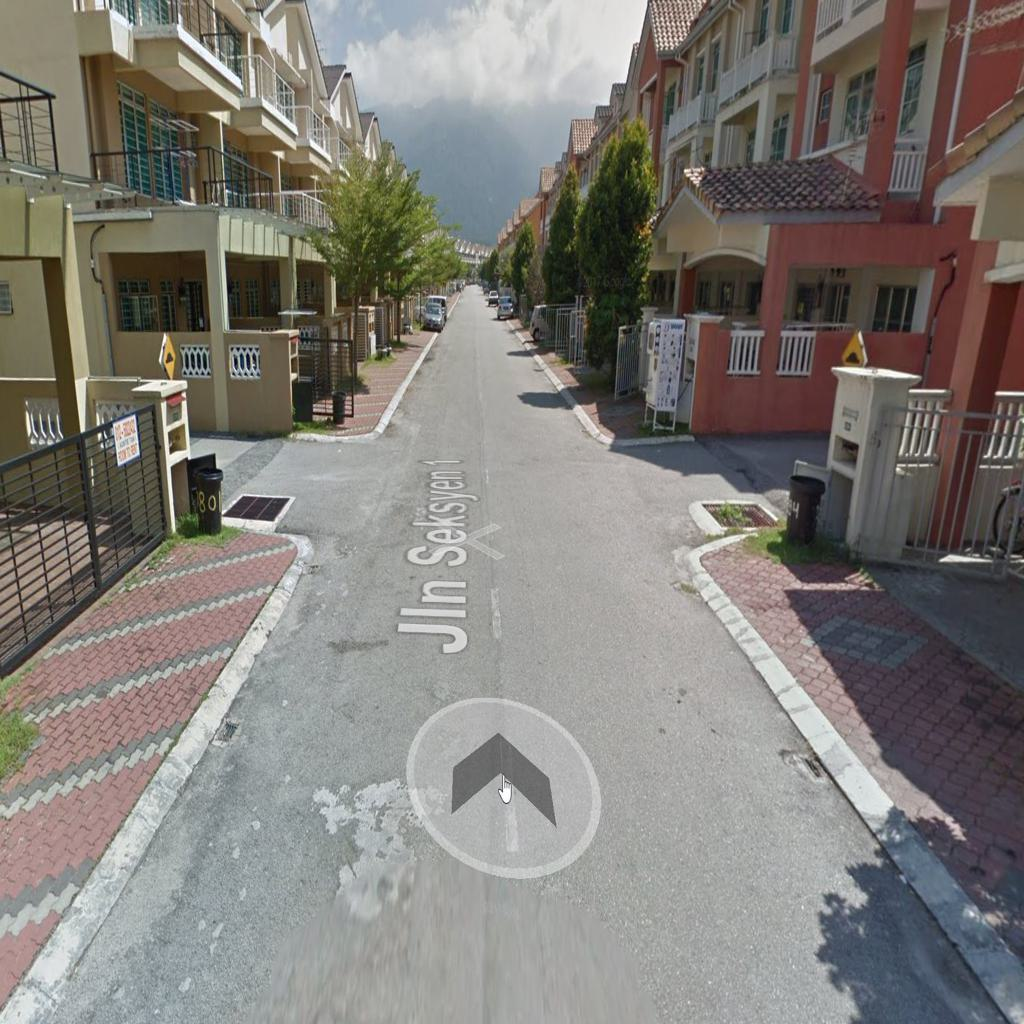Junction: (605, 407, 825, 588), (189, 403, 399, 576)
